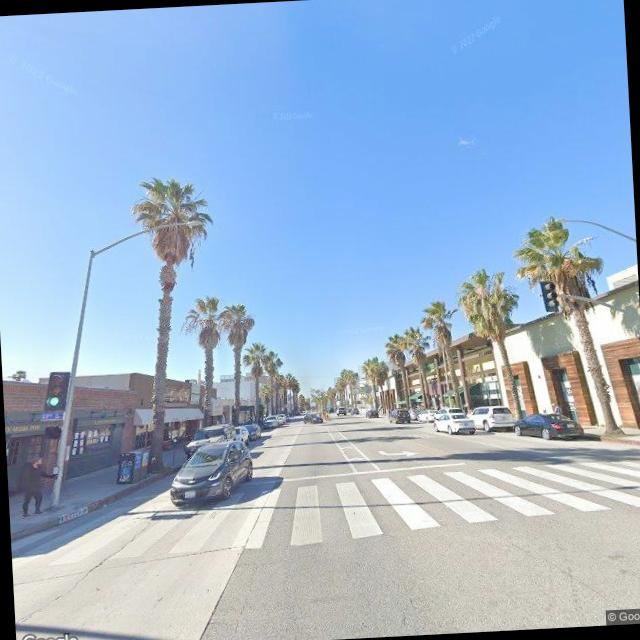crack: (226, 595, 250, 640)
